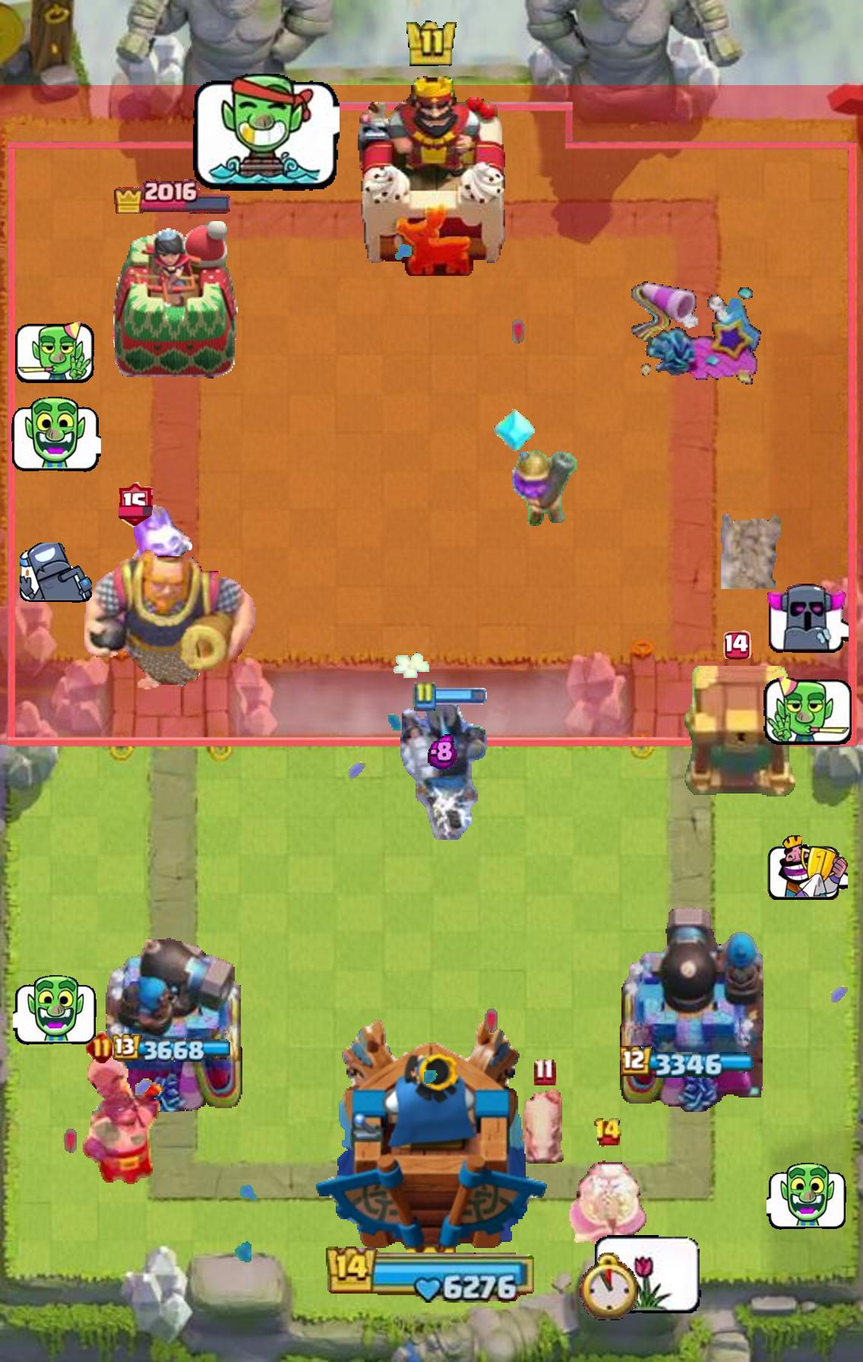bar-level: (118, 482, 152, 527), (86, 1031, 118, 1063), (593, 1117, 622, 1148), (723, 630, 751, 659), (533, 1057, 556, 1086)
